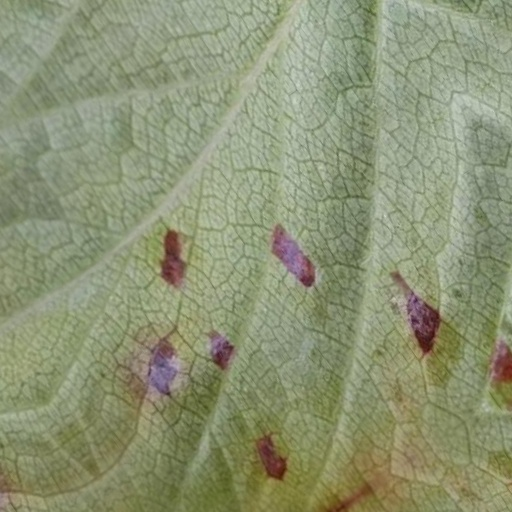Angular Leafspot: (79, 170, 511, 511)
